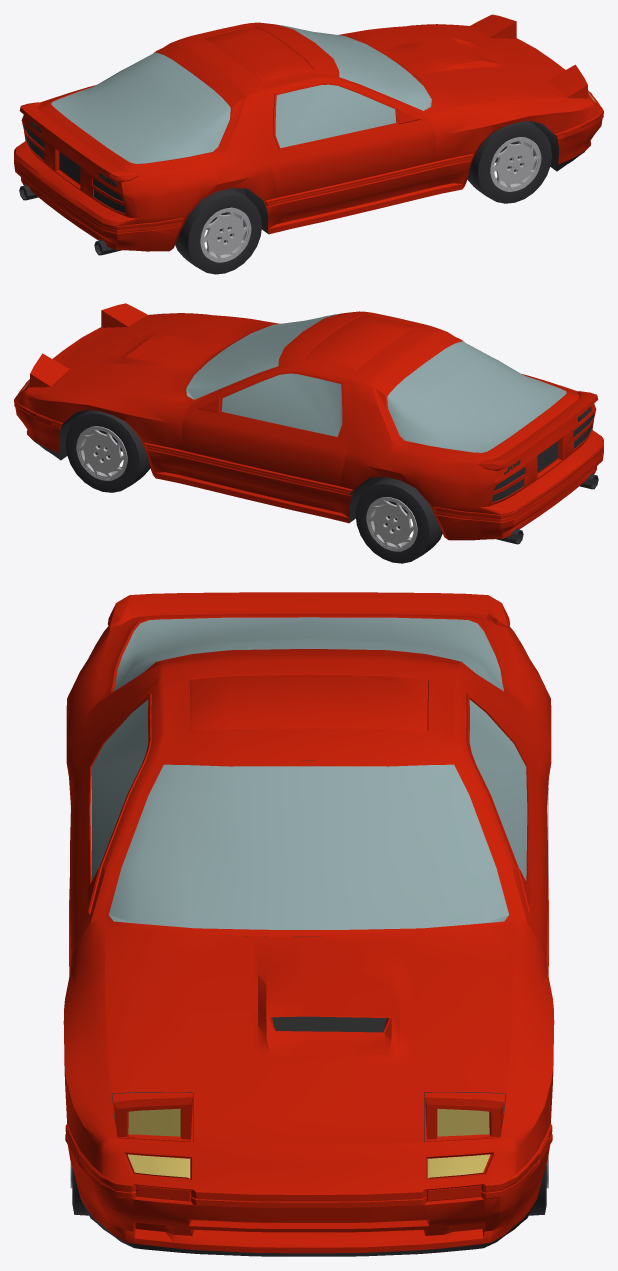
The model's file is coupe.glb.
3 renders of one model, top to bottom at view 1: azimuth 30°, elevation 25°; view 2: azimuth 150°, elevation 25°; view 3: azimuth 270°, elevation 25°, orthographic. The views are drawn at different scales.
Visible parts, largest first — view 1: Rear_bumper, RR_WHEEL, FR_WHEEL, Headlights, Bottom, Exhaust; view 2: Rear_bumper, RL_WHEEL, FL_WHEEL, Headlights, Bottom, Exhaust; view 3: Rear_bumper, Headlights, Bottom, Plane_013.
Part boxes in pixels (bbox=[...]): Rear_bumper: bbox=[14, 22, 603, 251]; RR_WHEEL: bbox=[175, 188, 261, 274]; FR_WHEEL: bbox=[467, 121, 551, 203]; Headlights: bbox=[469, 14, 587, 98]; Bottom: bbox=[23, 61, 584, 246]; Exhaust: bbox=[19, 185, 121, 255]; Rear_bumper: bbox=[14, 311, 603, 540]; RL_WHEEL: bbox=[355, 477, 442, 563]; FL_WHEEL: bbox=[65, 409, 150, 492]; Headlights: bbox=[30, 303, 148, 387]; Bottom: bbox=[32, 337, 593, 535]; Exhaust: bbox=[496, 474, 598, 544]; Rear_bumper: bbox=[63, 592, 554, 1253]; Headlights: bbox=[113, 1096, 504, 1141]; Bottom: bbox=[81, 760, 536, 1256]; Plane_013: bbox=[112, 1092, 505, 1141].
Bounding box in the file's own units: 4.3 × 1.27 × 1.79.
